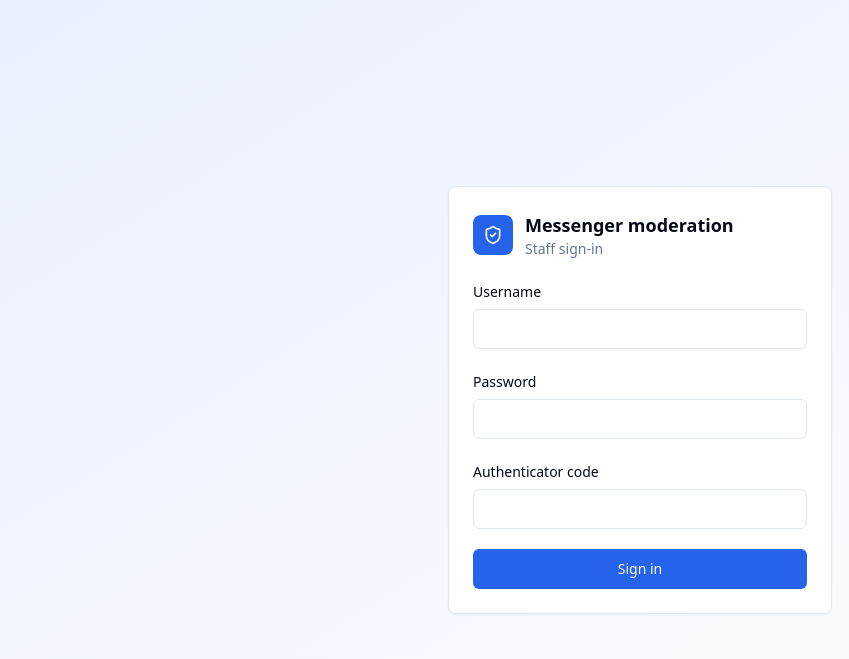
Test: App › shows the server message when sign-in fails
Type "operator" into the field labelled "Username". click: (640, 329)
box: [473,309,807,349]
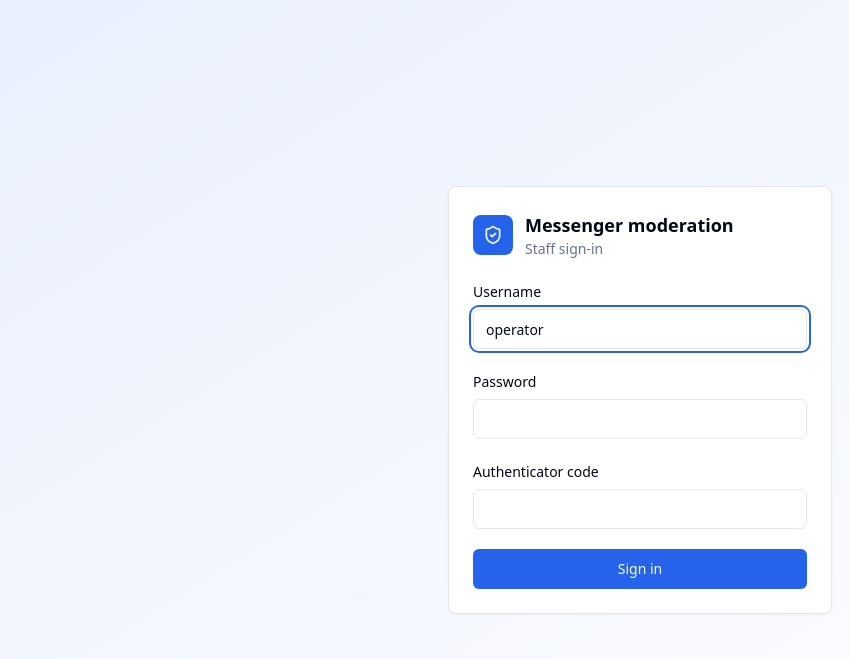
Type "wrong" into the password field labelled "Password". click: (640, 419)
box: [473,399,807,439]
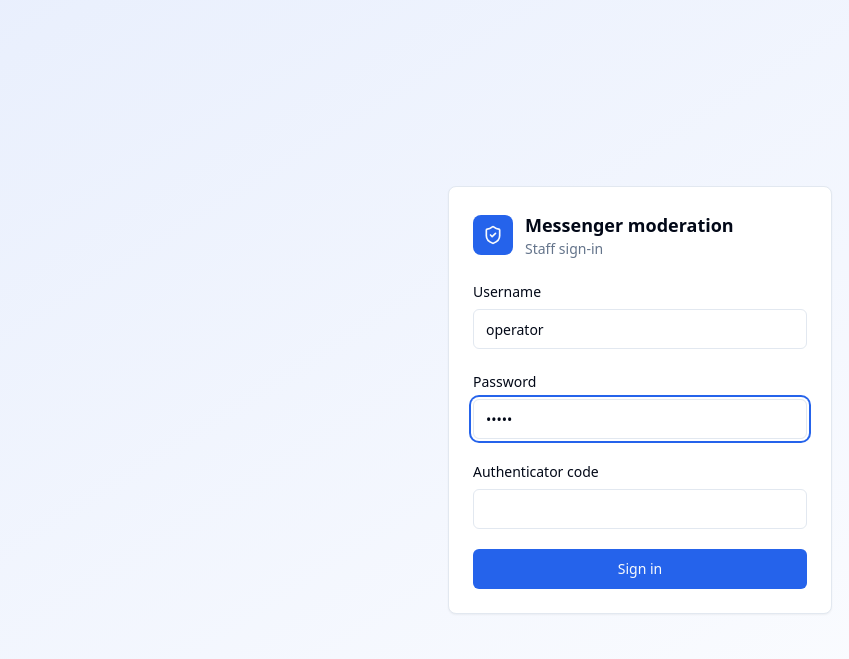
Type "000000" into the field labelled "Authenticator code". click: (640, 509)
box: [473,489,807,529]
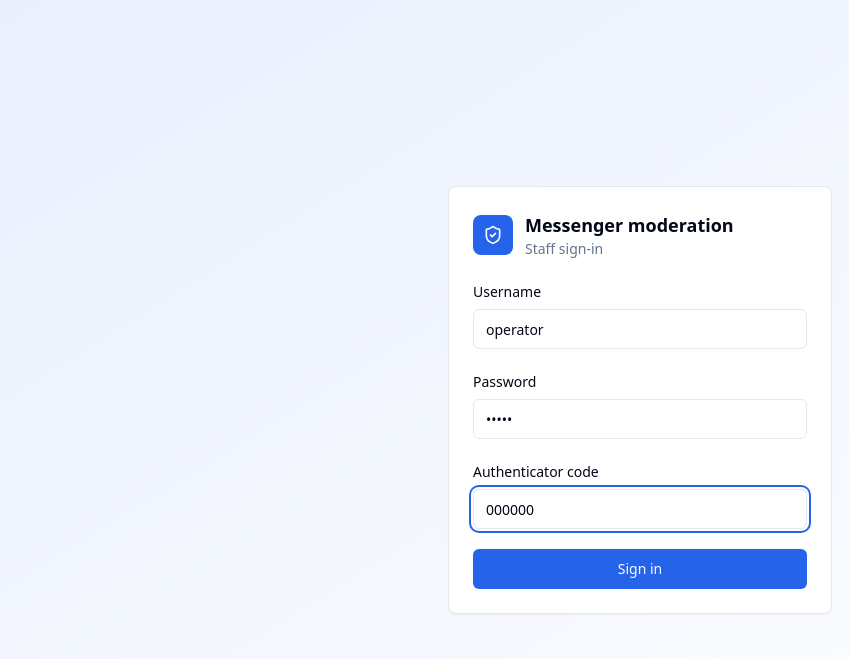
Click the button "Sign in". click: (640, 569)
box: [473,549,807,589]
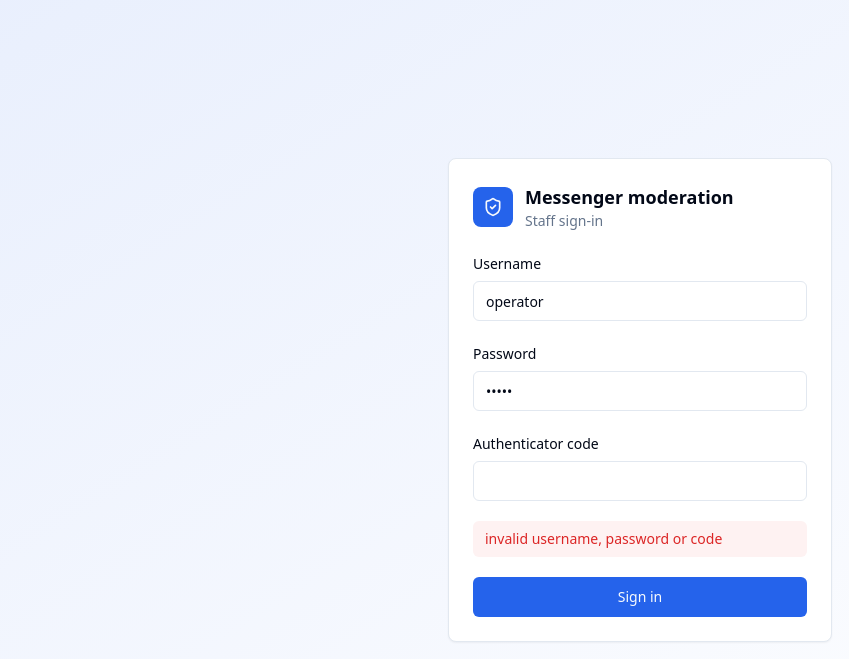
Expected: the message reads "invalid username, password or code", [485,529,722,548]
Expected: the field labelled "Authenticator code" is empty, [473,461,807,501]
